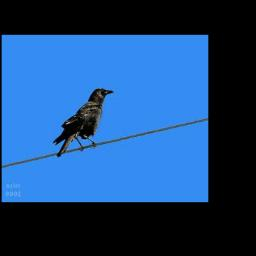Crow: (52, 86, 117, 157)
